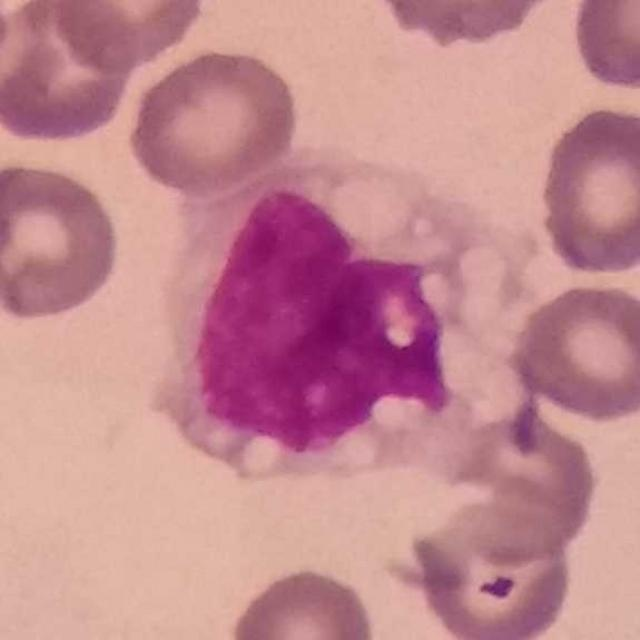mono: (151, 139, 552, 484)
